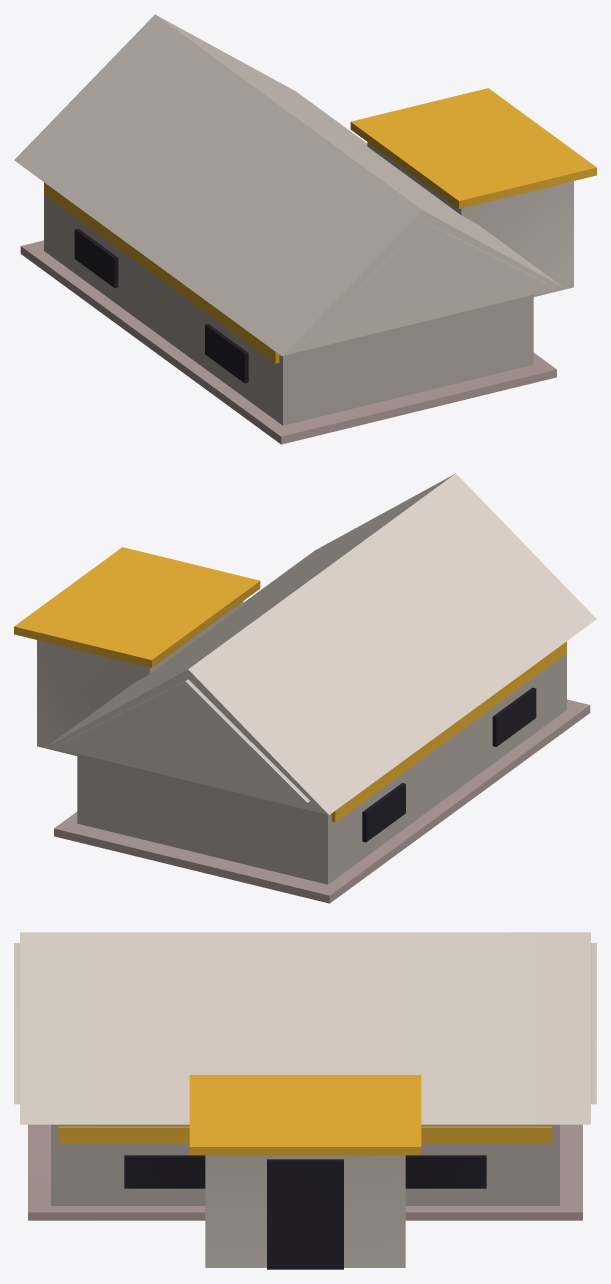
File: prop.cure-iso-tent.lod2.glb
3 views of the same model, one above another, from view 1: azimuth 30°, elevation 25°; view 2: azimuth 150°, elevation 25°; view 3: azimuth 270°, elevation 25° (orthographic). The views are drawn at different scales.
Parts seen in each view (by area): view 1: body; view 2: body; view 3: body.
Boxes of the visible parts, x1,y1,x2,y2 form: body: [14, 14, 596, 444]; body: [14, 473, 596, 903]; body: [14, 932, 596, 1269].
Bounding box in the file's own units: 6.3 × 3.1 × 7.56.
